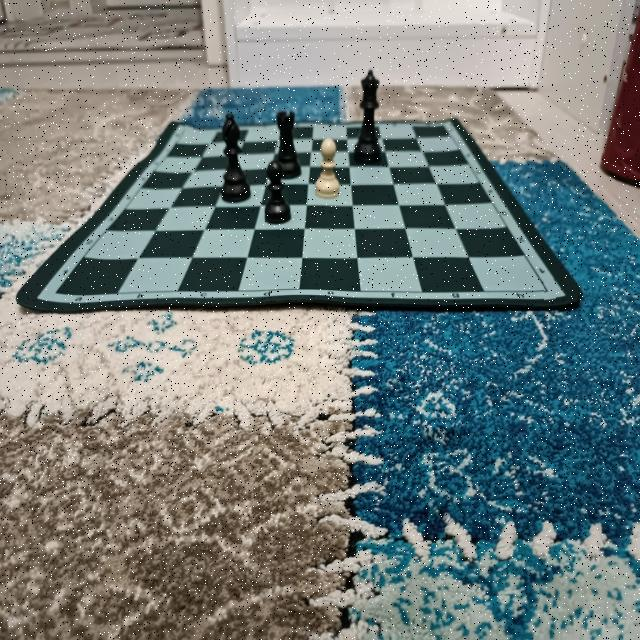corner: (46, 281, 68, 304), (537, 278, 556, 301), (176, 120, 193, 142), (437, 118, 453, 136)
